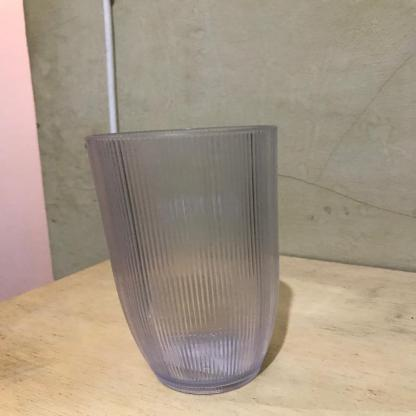glass: (90, 127, 280, 396)
